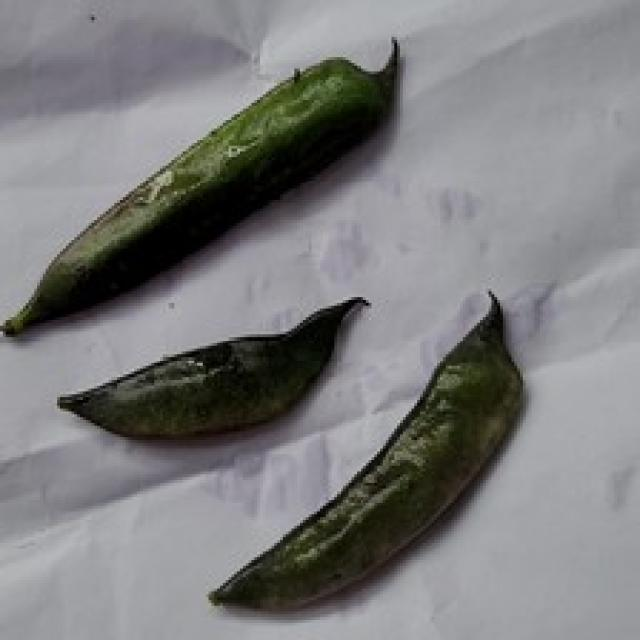Bean: (0, 34, 400, 337), (206, 288, 523, 612), (54, 291, 369, 440)
